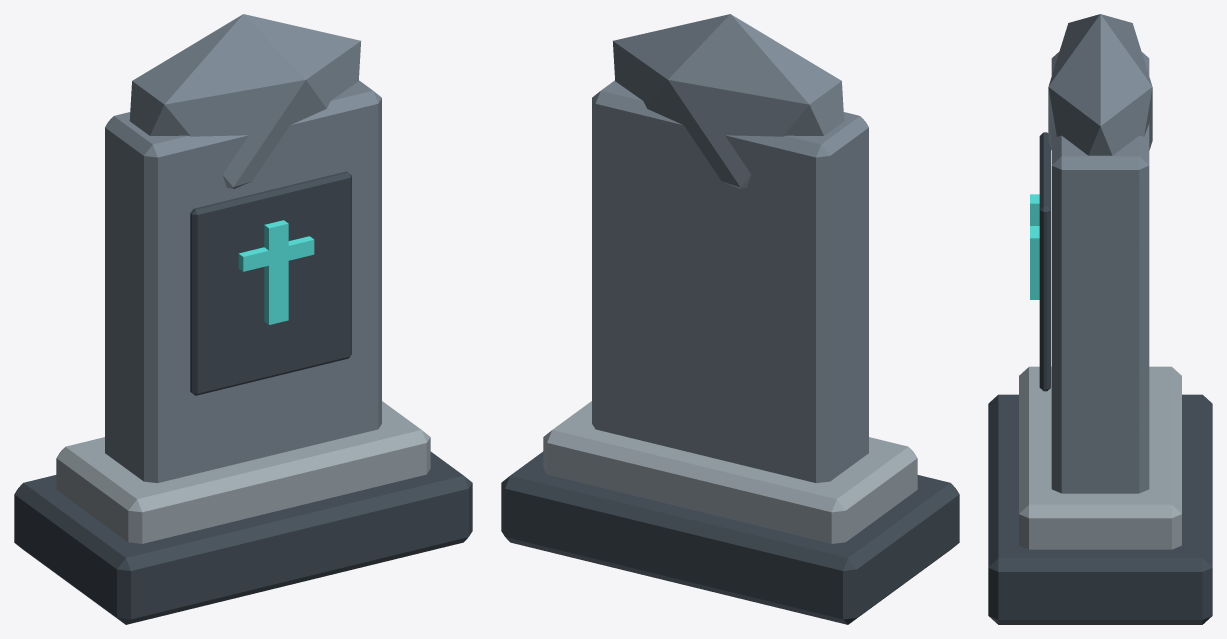
The model's file is L01R_Gravestone.fbx.
3 renders of one model, left to right at view 1: azimuth 30°, elevation 25°; view 2: azimuth 150°, elevation 25°; view 3: azimuth 270°, elevation 25°, orthographic.
Parts seen in each view (by area): view 1: L01R_Gravestone; view 2: L01R_Gravestone; view 3: L01R_Gravestone.
Boxes of the visible parts, x1,y1,x2,y2 form: L01R_Gravestone: (14, 14, 472, 624); L01R_Gravestone: (501, 14, 959, 624); L01R_Gravestone: (988, 14, 1212, 624).
Size of the model in its own units: 100 by 143 by 55.
